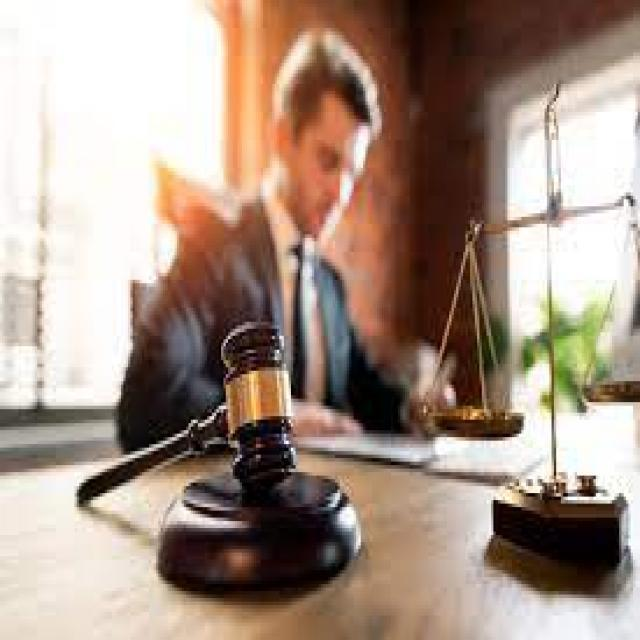hammer: (60, 306, 305, 534)
